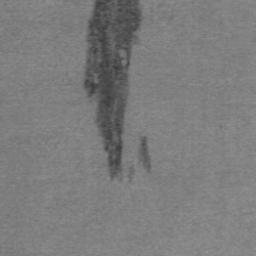Iron scale compression: (84, 0, 141, 183), (140, 136, 151, 174)
